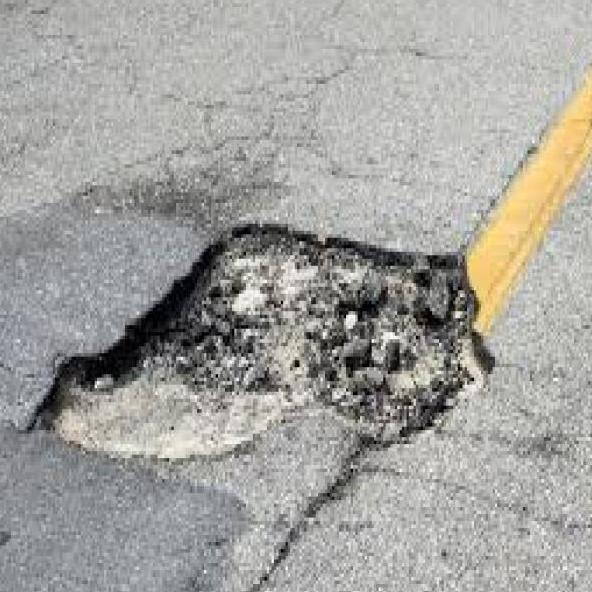pothole: (33, 220, 501, 467)
